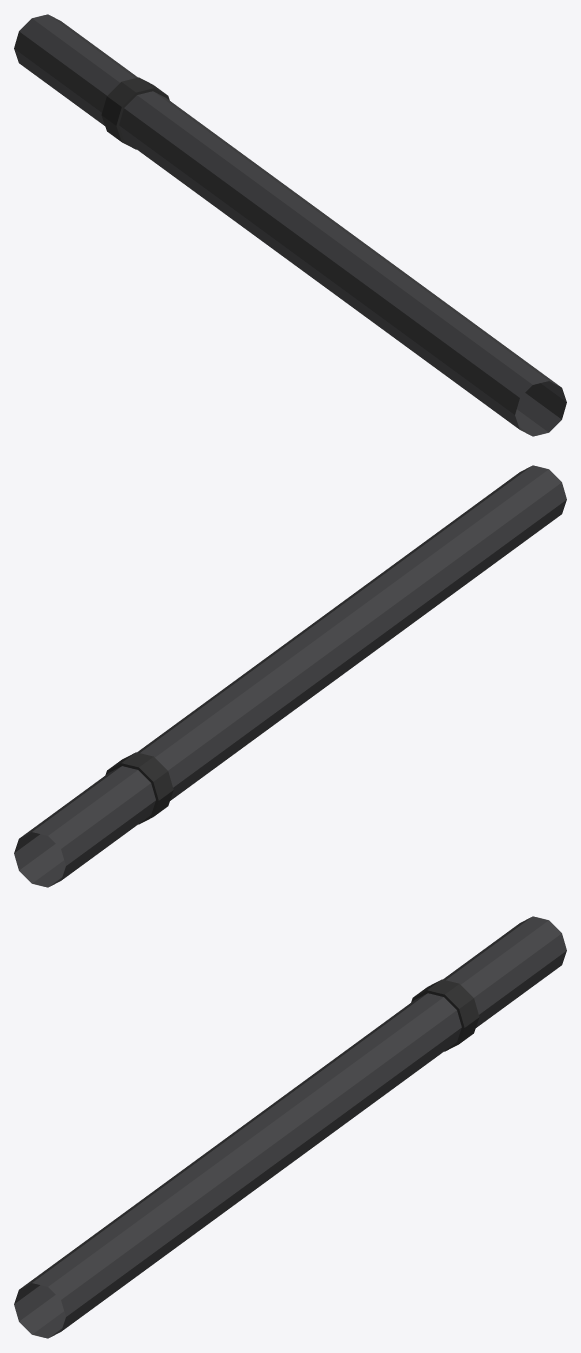
Rendered from SmallPipe01T1.fbx.
The picture shows the model from 3 angles, top to bottom: view 1: azimuth 30°, elevation 25°; view 2: azimuth 150°, elevation 25°; view 3: azimuth 330°, elevation 25°; orthographic projection.
Visible parts, largest first — view 1: SmallPipe01T1; view 2: SmallPipe01T1; view 3: SmallPipe01T1.
Part boxes in pixels (x1=…): SmallPipe01T1: x1=14, y1=14, x2=566, y2=436; SmallPipe01T1: x1=14, y1=465, x2=566, y2=887; SmallPipe01T1: x1=14, y1=916, x2=566, y2=1338.
Size of the model in its own units: 15.68 by 14.91 by 237.
